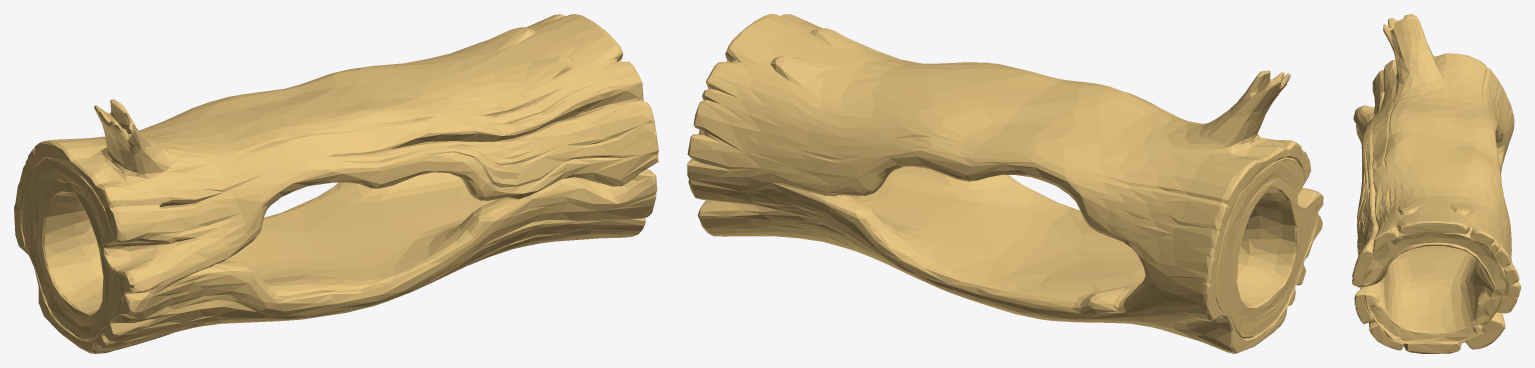
The picture shows the model from 3 angles, left to right: view 1: azimuth 30°, elevation 25°; view 2: azimuth 150°, elevation 25°; view 3: azimuth 270°, elevation 25°; orthographic projection. The views are drawn at different scales.
Visible parts, largest first — view 1: node_0; view 2: node_0; view 3: node_0.
Boxes of the visible parts, box(x1,y1,x2,y2) form: node_0: box(14, 14, 658, 353); node_0: box(687, 14, 1323, 353); node_0: box(1352, 14, 1520, 353).
Bounding box in the file's own units: 1.08 × 0.505 × 0.4468.
